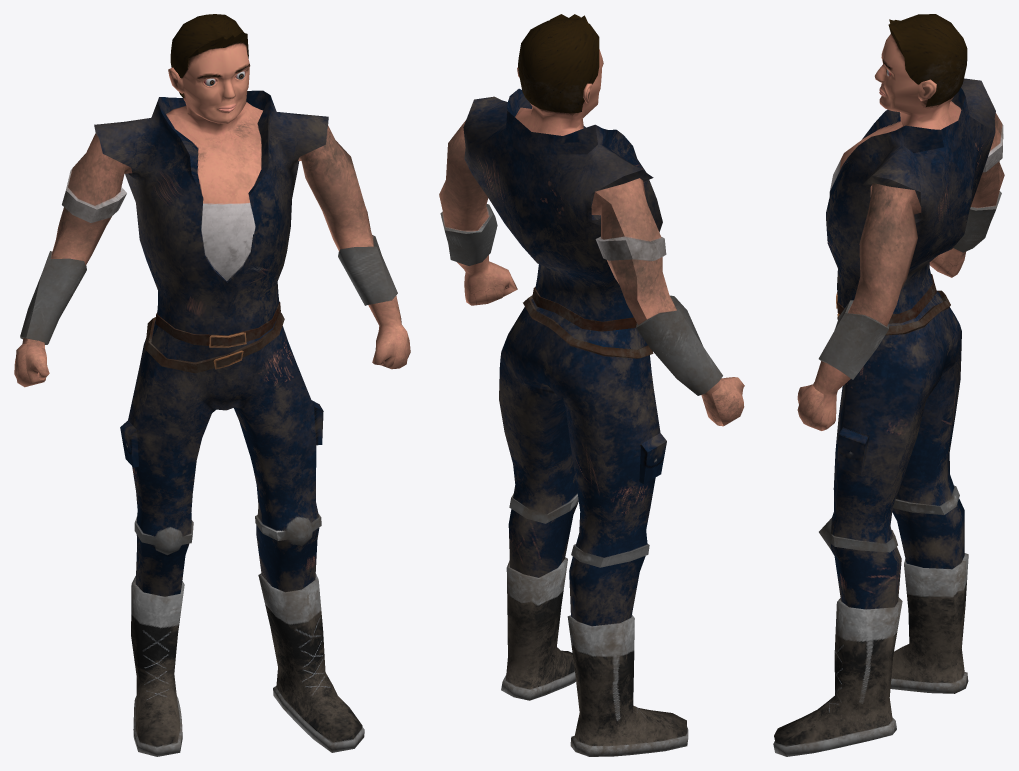
Rendered from Anim_especial_jugador.0040.obj.
The picture shows the model from 3 angles, left to right: view 1: azimuth 30°, elevation 25°; view 2: azimuth 150°, elevation 25°; view 3: azimuth 270°, elevation 25°; orthographic projection. The views are drawn at different scales.
Parts seen in each view (by area): view 1: polySurface1; view 2: polySurface1; view 3: polySurface1.
Part boxes in pixels (box(x1,y1,x2,y2)): polySurface1: box(14, 14, 410, 756); polySurface1: box(439, 14, 744, 756); polySurface1: box(773, 14, 1004, 756).
Bounding box in the file's own units: 4.84 × 9.77 × 2.92.
